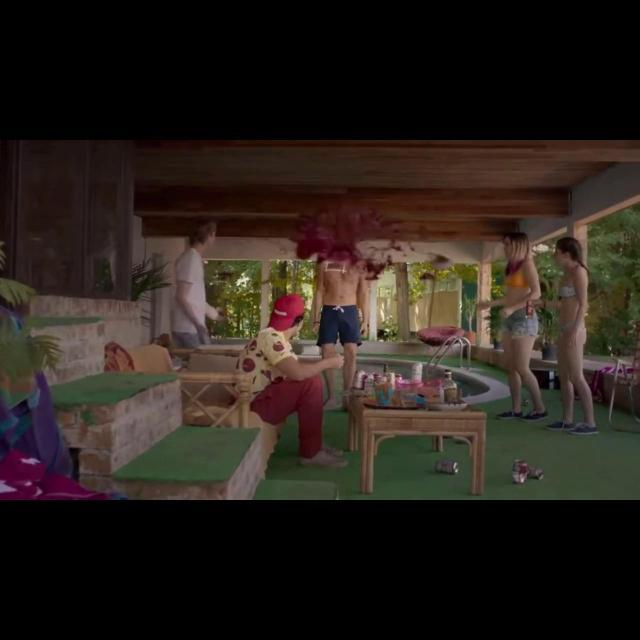blood: (297, 211, 402, 280), (430, 253, 452, 270)
